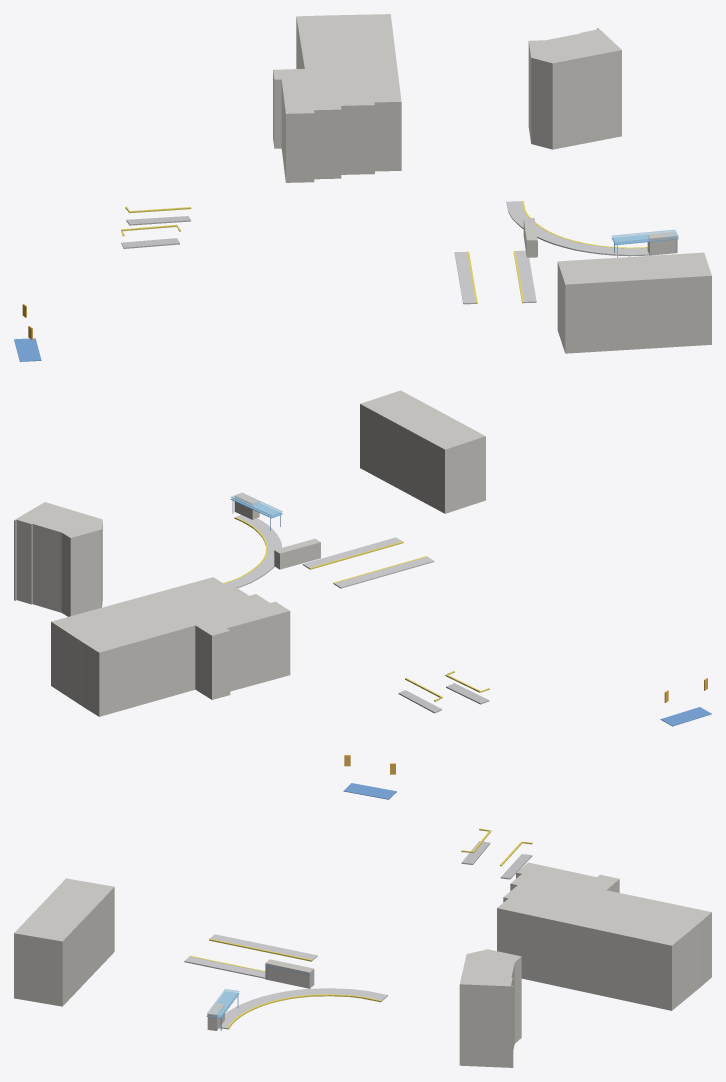
File: 8590014-bern-fischermaetteli.glb
3 renders of one model, top to bottom at view 1: azimuth 30°, elevation 25°; view 2: azimuth 150°, elevation 25°; view 3: azimuth 270°, elevation 25°, orthographic. The views are drawn at different scales.
Visible parts, largest first — view 1: building_part@x, platform_body@0, boarding_edge@0, platform_surface@0; view 2: building_part@x, platform_body@0, boarding_edge@0, platform_surface@0; view 3: building_part@x, platform_body@0, boarding_edge@0, platform_surface@0.
Part boxes in pixels (x1,y1,x2,y2): building_part@x: (273,14,711,353); platform_body@0: (454,201,649,304); boarding_edge@0: (121,201,647,303); platform_surface@0: (121,216,190,248); building_part@x: (14,390,485,716); platform_body@0: (224,515,434,588); boarding_edge@0: (223,517,489,701); platform_surface@0: (398,683,489,713); building_part@x: (14,862,711,1067); platform_body@0: (184,934,387,1029); boarding_edge@0: (189,828,532,1029); platform_surface@0: (461,841,532,879).
Bounding box in the file's own units: 141 × 22.12 × 136.
